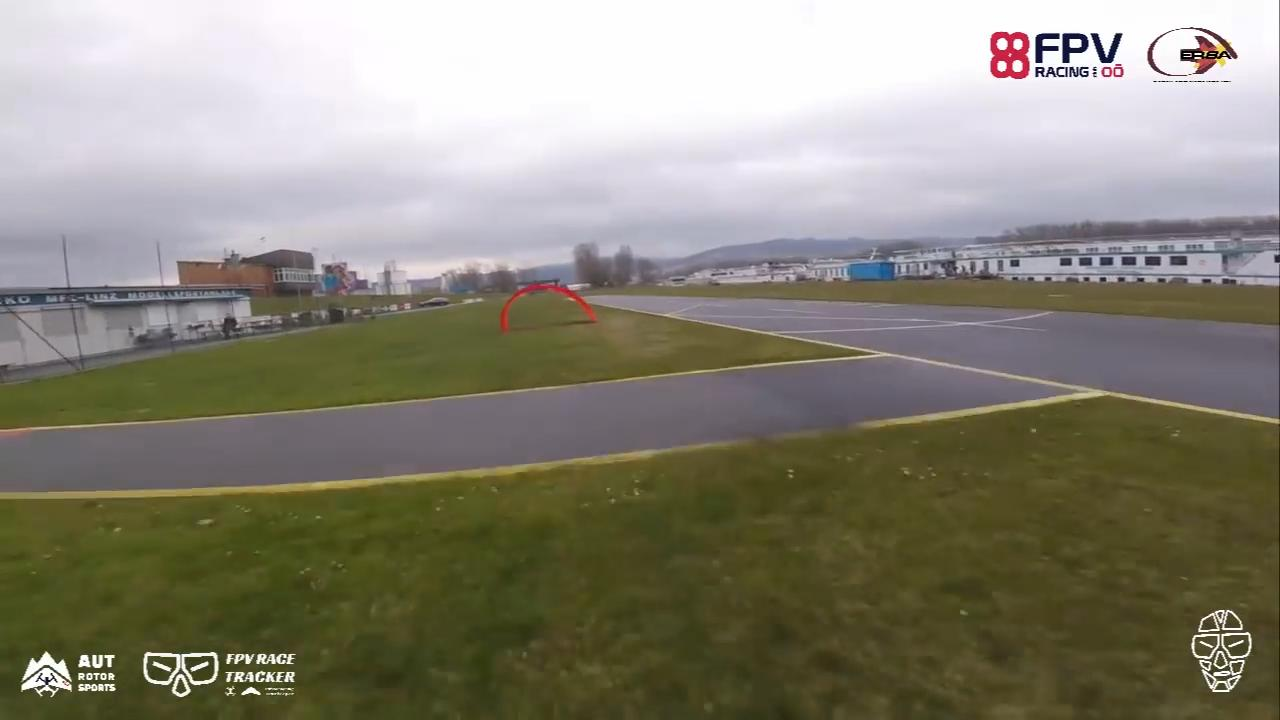gate: (497, 282, 601, 335)
